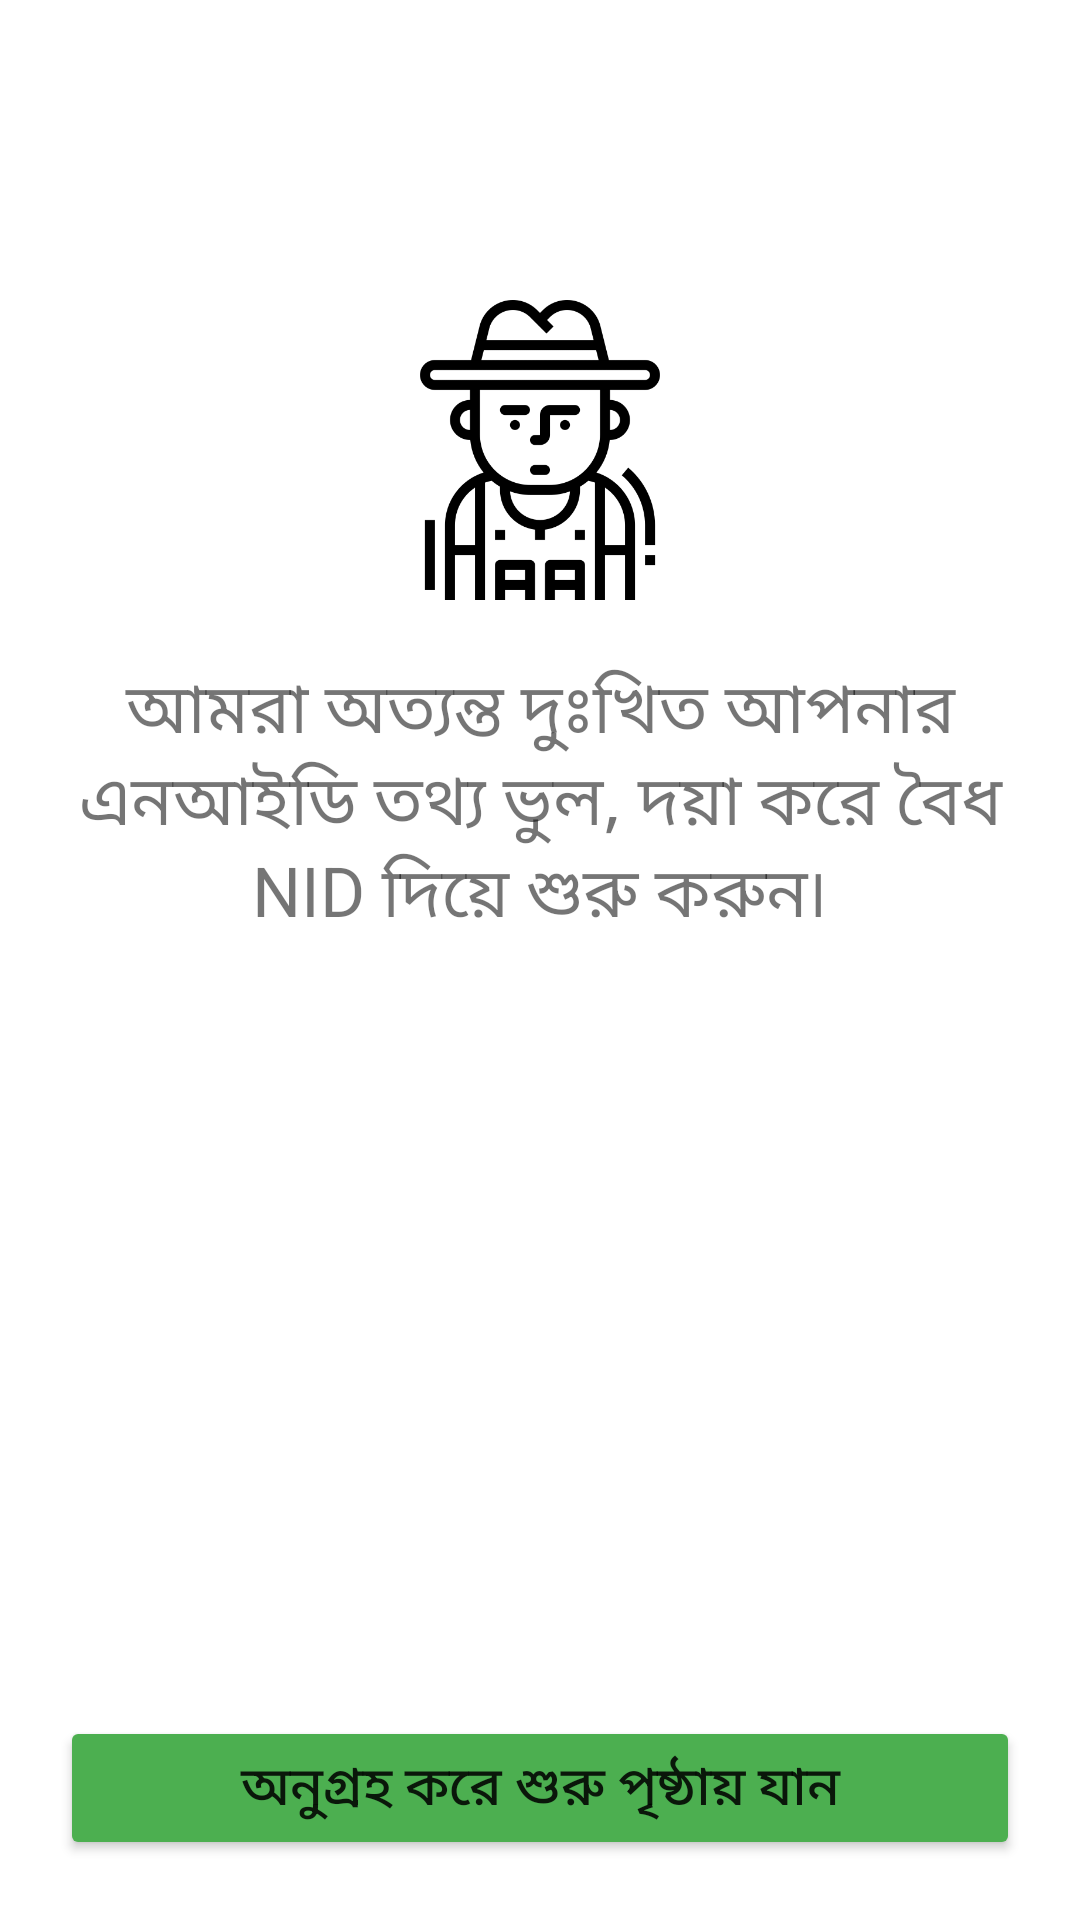

Screen size 1080 x 1920. Icon name, then its center in pixels as (x,y):
farmer: (540,450)
